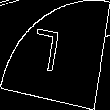L_S: (38, 27, 72, 83)
